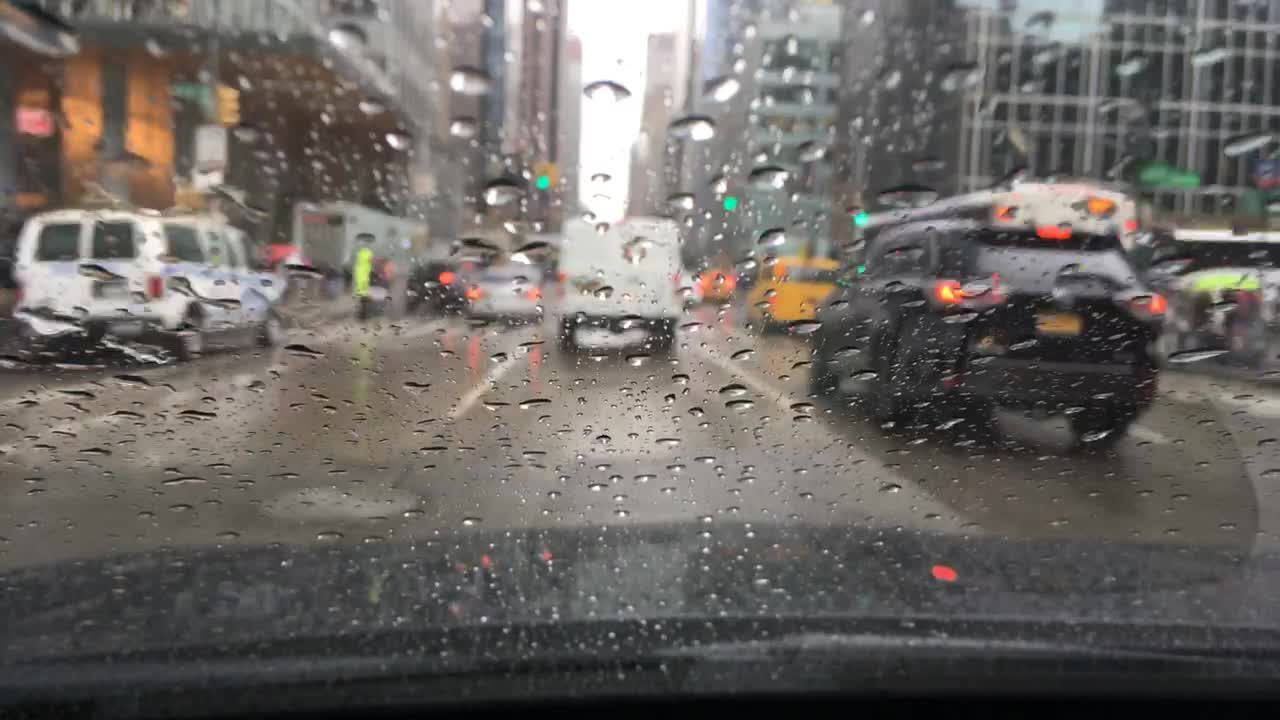bus: (856, 178, 1154, 233), (1141, 227, 1280, 324), (294, 197, 429, 295)
car: (807, 220, 1164, 455), (13, 206, 288, 359), (742, 258, 836, 335), (463, 258, 544, 330), (404, 258, 470, 312), (693, 266, 739, 309), (678, 273, 705, 310)
person: (349, 246, 374, 321)
traffic light: (216, 83, 235, 123), (532, 160, 546, 192), (546, 160, 556, 190), (724, 186, 733, 212), (856, 200, 865, 223)
truck: (563, 215, 681, 353)
